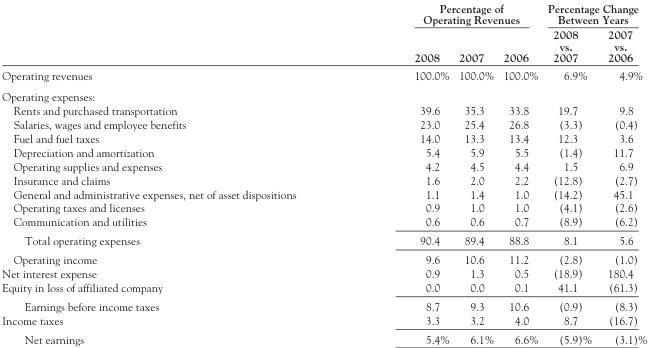table: (1, 1, 646, 345)
table column: (1, 1, 354, 345), (354, 1, 453, 345), (542, 1, 599, 345), (599, 1, 646, 345), (497, 1, 542, 345), (453, 1, 497, 345)
table column header: (1, 1, 646, 65)
table projected row header: (1, 85, 646, 103)
table row: (1, 26, 646, 65), (1, 1, 646, 26), (1, 65, 646, 85), (1, 230, 646, 249), (1, 85, 646, 103), (1, 279, 646, 296), (1, 312, 646, 329), (1, 214, 646, 230), (1, 249, 646, 265), (1, 296, 646, 312), (1, 329, 646, 345), (1, 116, 646, 130), (1, 130, 646, 144), (1, 144, 646, 158), (1, 158, 646, 172), (1, 172, 646, 186), (1, 186, 646, 200), (1, 200, 646, 214), (1, 265, 646, 279), (1, 103, 646, 116)
table spanning cell: (354, 1, 542, 26), (542, 1, 646, 26)
